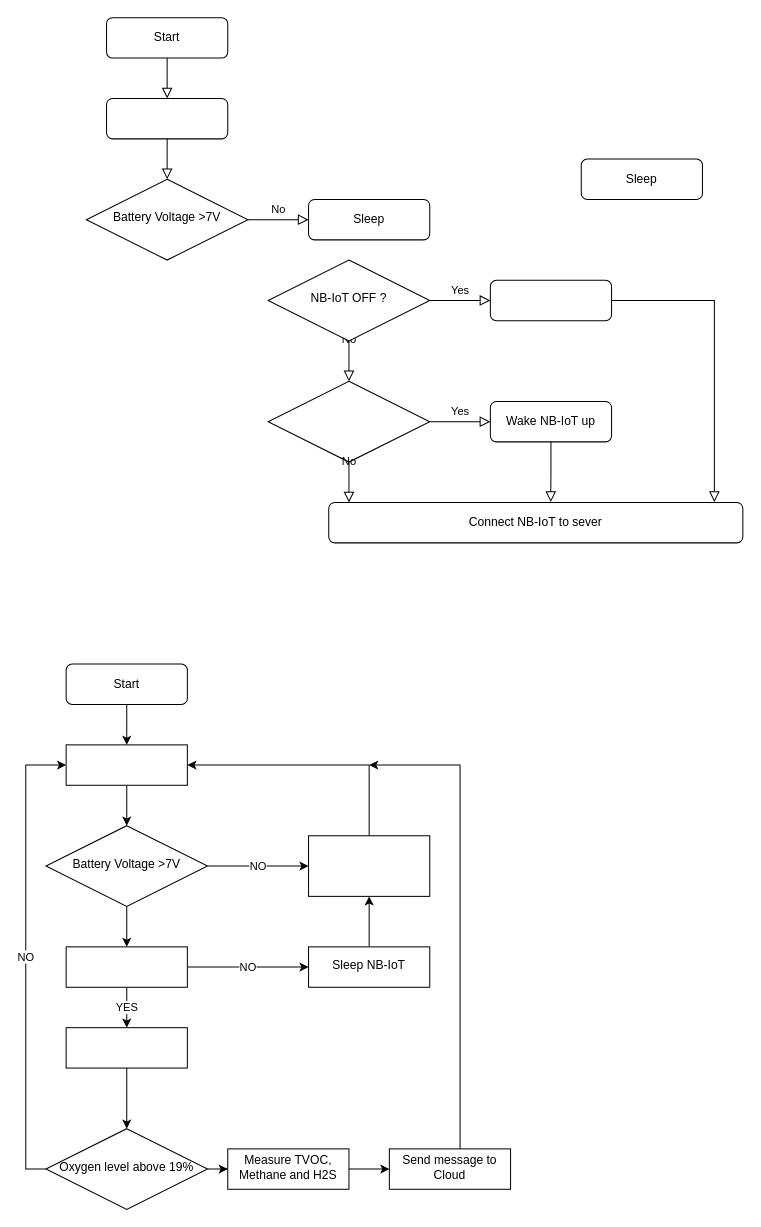
Image size: 761x1227. Some labels were removed from this diagram. Here are the shapes that lost their labels. From the top down, the centre of each, then its label:
At point (167, 118): "Turn on MCU".
At point (550, 300): "Turn on NB-IoT".
At point (348, 421): "NB-IoT Sleeping".
At point (126, 764): "Check battery voltage".
At point (369, 865): "Sleep MCU".
At point (126, 966): "Check NB-IoT connectionn".
At point (126, 1047): "Measure Oxygen".
